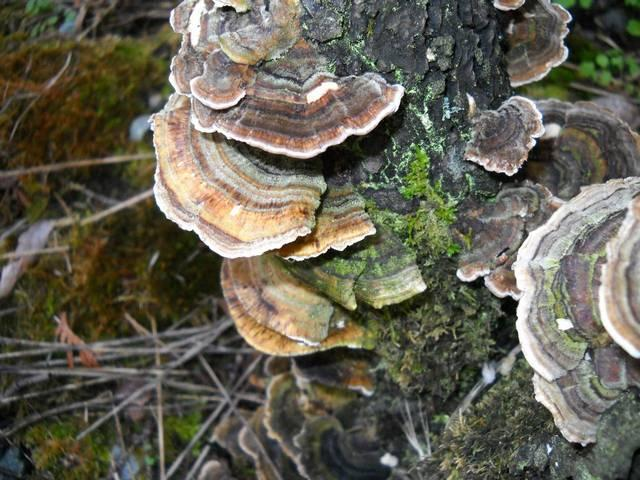Non-edible Mushroom: (148, 0, 405, 260), (523, 165, 640, 453), (462, 93, 545, 176)
